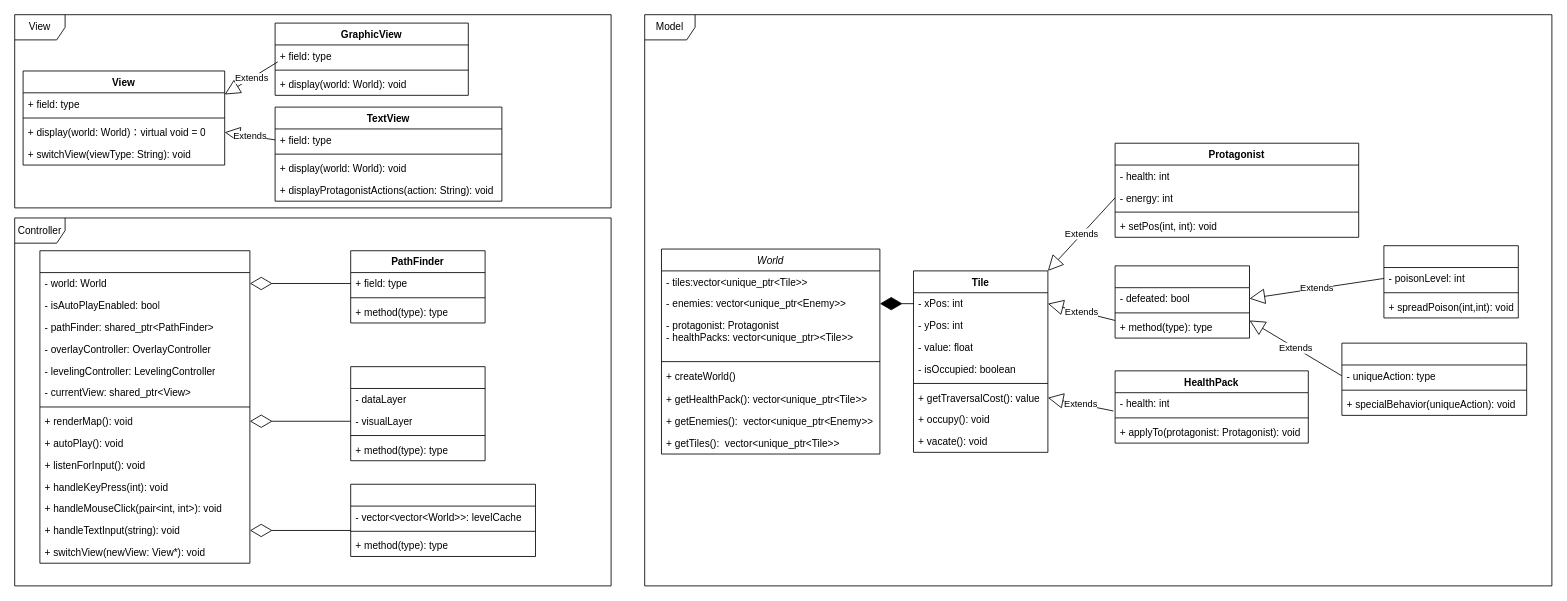
The diagram is 1567 pixels wide and 601 high, and some of its shapes have lost their labels. The shapes that lost their labels are listed below. From the top down, each one's box as (x1, y1, x2, y2) in pixels, then its label:
(1114, 265, 1250, 338): Enemy
(1383, 245, 1518, 318): PEnemy
(1341, 342, 1527, 415): XEnemy
(39, 250, 250, 563): GameController
(350, 366, 485, 461): OverlayController
(350, 483, 536, 556): LevelingController
